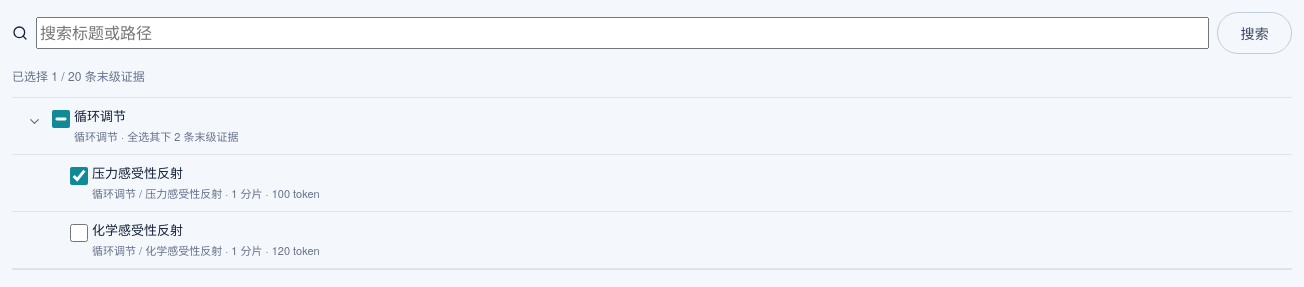
KnowledgeNodePicker › shows a partially selected parent and keeps its expand control
This screenshot has width=1304, height=287.
Step 1. Click the button with class "node-expand" → (34, 121), box top-left (20, 107), bottom-right (48, 135)
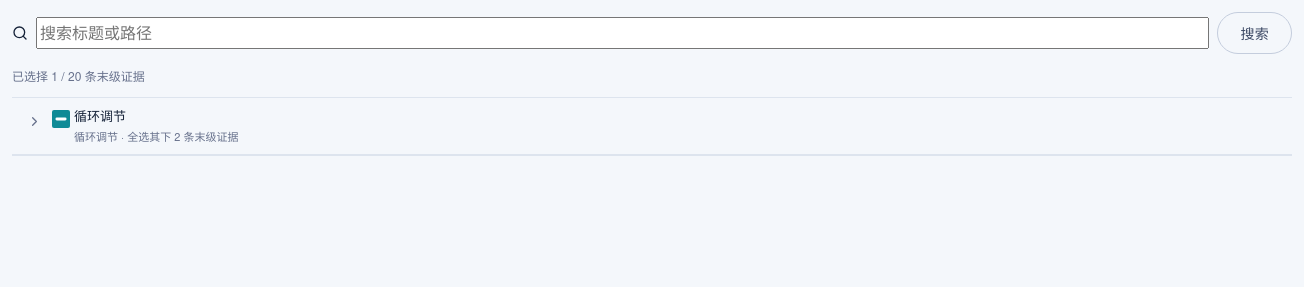
Expected: the number of list items with class "node-row" is 1, top-left (12, 98), bottom-right (1292, 155)
